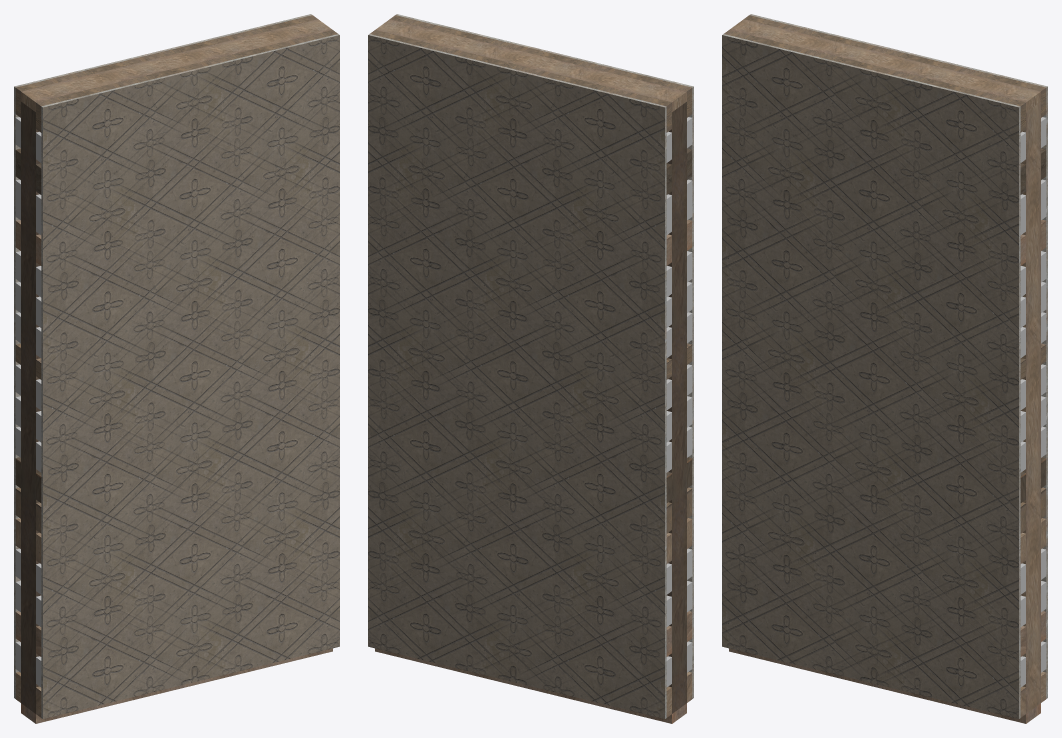
File: HalfWallPeiceC.fbx
3 renders of one model, left to right at view 1: azimuth 30°, elevation 25°; view 2: azimuth 150°, elevation 25°; view 3: azimuth 330°, elevation 25°, orthographic.
Visible parts, largest first — view 1: HallWallPeiceC; view 2: HallWallPeiceC; view 3: HallWallPeiceC.
Part boxes in pixels (x1,y1,x2,y2): HallWallPeiceC: (14,14,339,723); HallWallPeiceC: (368,14,693,723); HallWallPeiceC: (722,14,1047,723).
Size of the model in its own units: 187 by 374 by 31.37.
